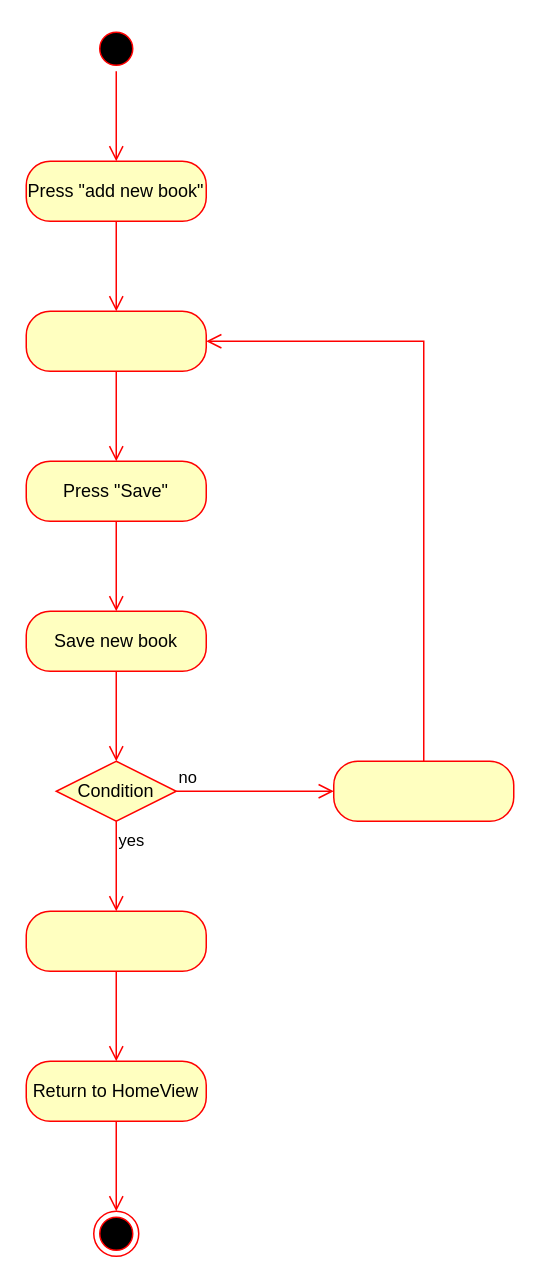
This 540x1283 diagram has some shape labels left out. Here are the shapes that lost their labels. From the top down, the box of each, then its label:
(25, 310, 206, 371): Fill the form of a book
(332, 760, 514, 821): "Fill all the fieldes" message
(25, 910, 206, 971): Add new book to data base
